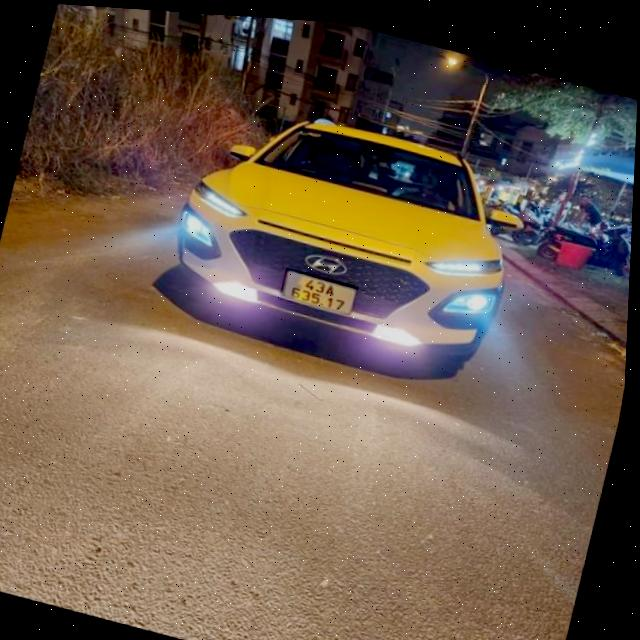car: (155, 89, 535, 403)
plate: (273, 264, 363, 322)
